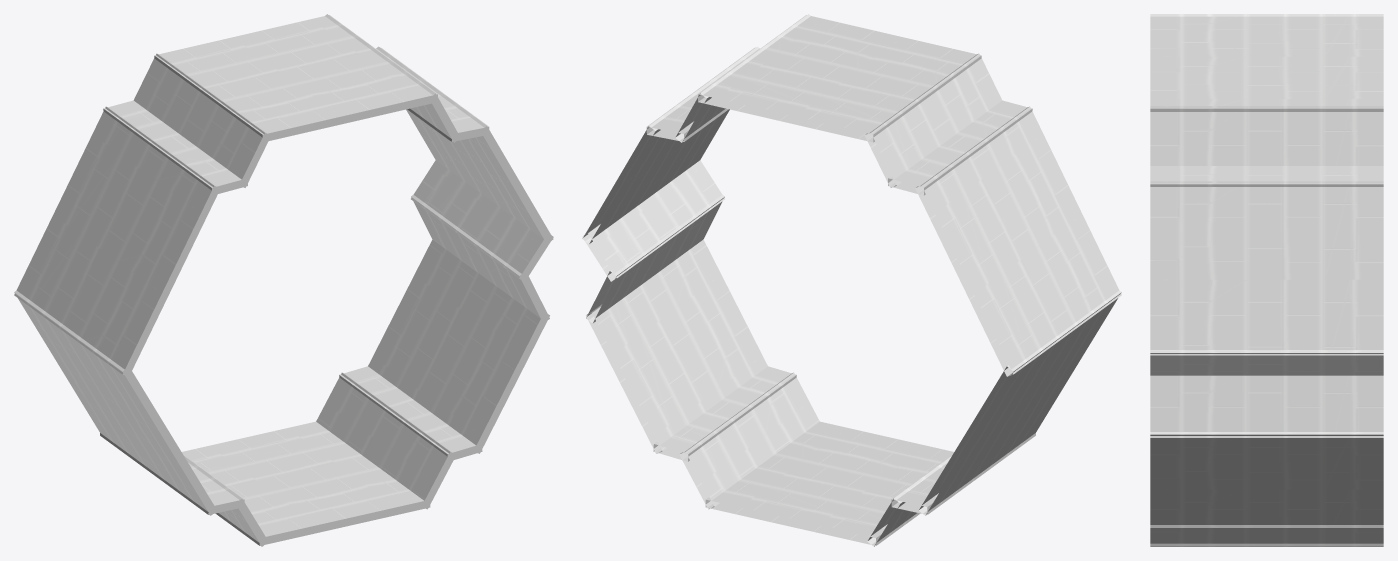
The model's file is wall_1.obj.
The picture shows the model from 3 angles, left to right: view 1: azimuth 30°, elevation 25°; view 2: azimuth 150°, elevation 25°; view 3: azimuth 270°, elevation 25°; orthographic projection. The views are drawn at different scales.
Visible parts, largest first — view 1: walls; view 2: walls; view 3: walls.
Boxes of the visible parts, <box> form: walls: <box>14,14,553,546</box>; walls: <box>582,14,1121,546</box>; walls: <box>1150,14,1383,546</box>.
Bounding box in the file's own units: 5.74 × 5.3 × 2.5.
